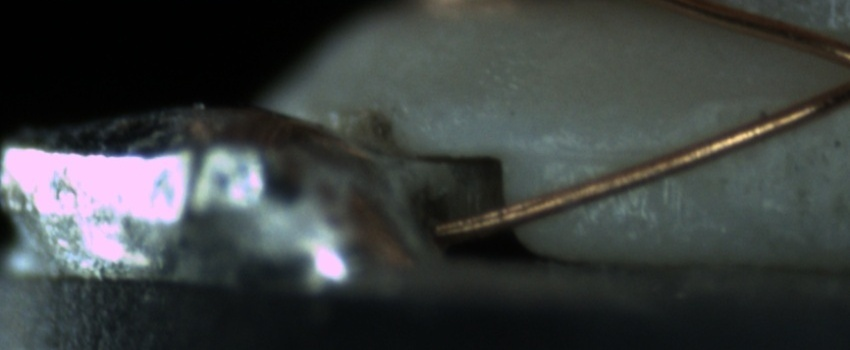DL: (526, 120, 666, 186)
